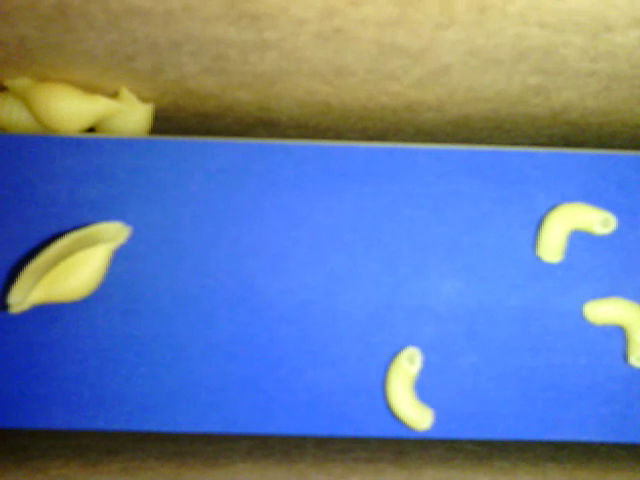elbow: (535, 198, 616, 264), (381, 342, 437, 434), (579, 292, 639, 366)
shell: (9, 219, 131, 313), (1, 75, 127, 138), (96, 85, 156, 137), (1, 91, 58, 138)
